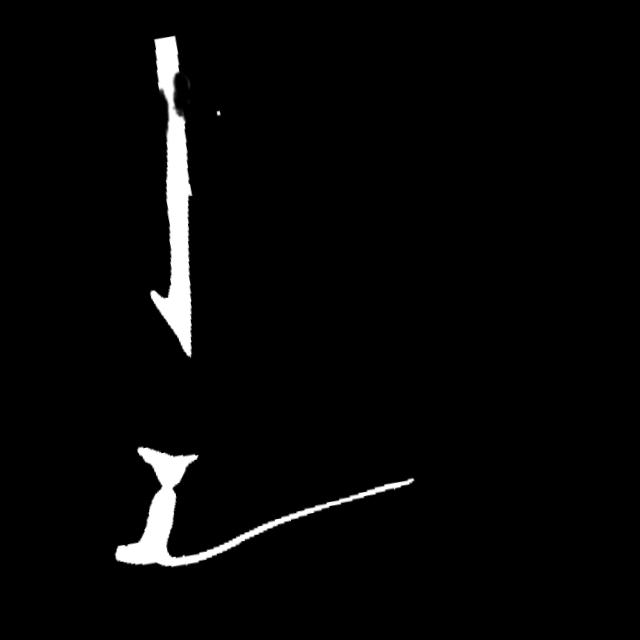sl: (150, 63, 197, 141)
